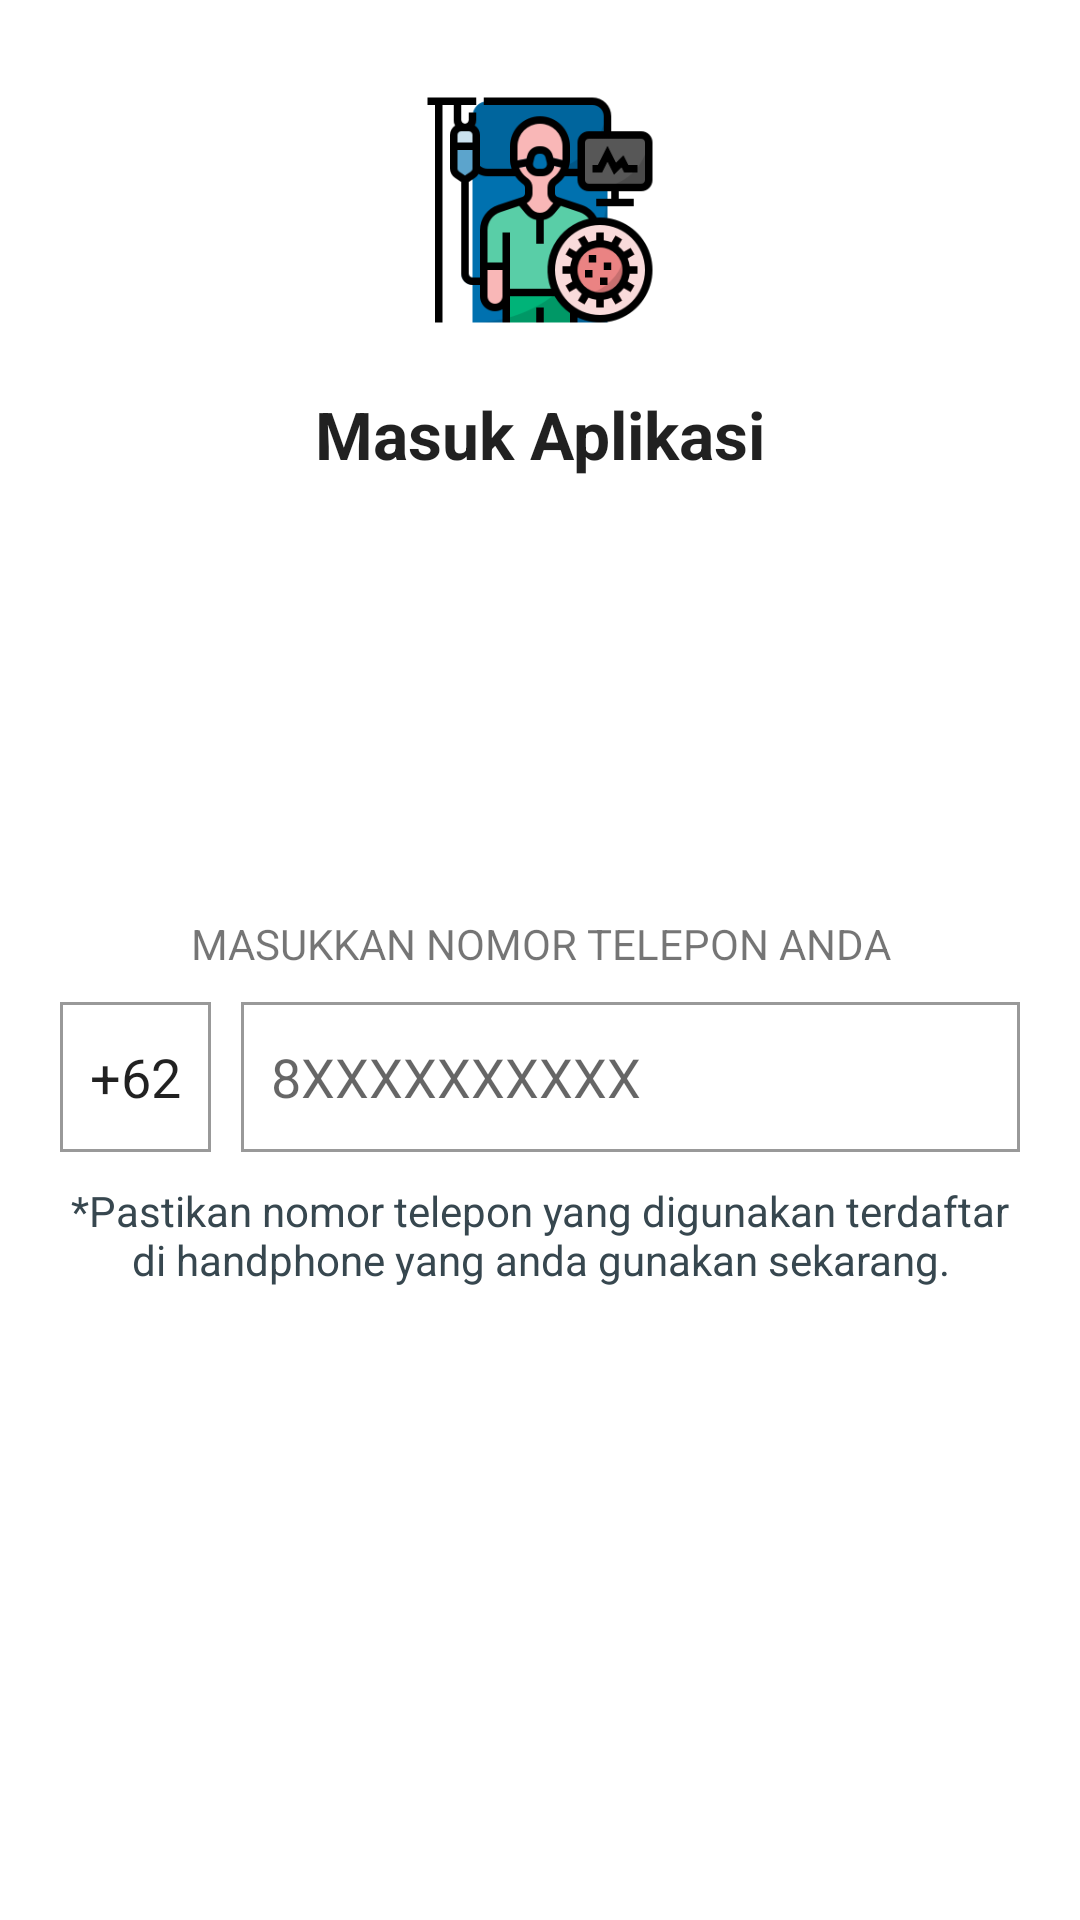

Icon bounding boxes for this 1080×1920 phone screenshot, format BBox(x1, y1, x2, y2):
patient: BBox(427, 97, 653, 323)
